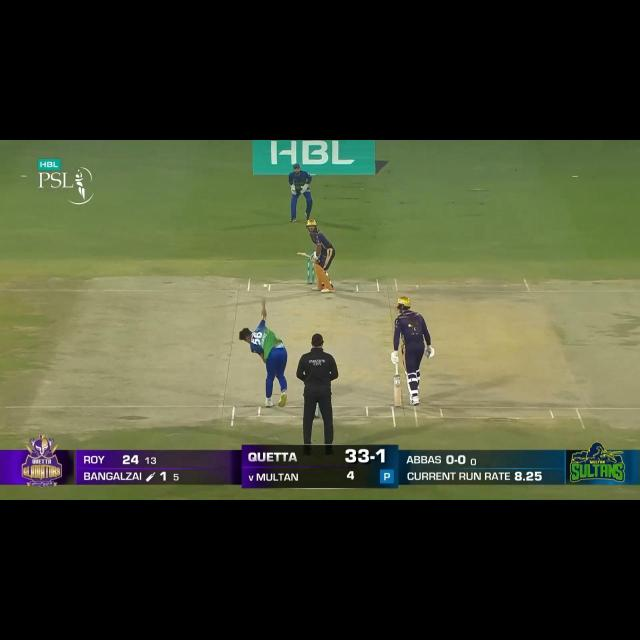bat: (393, 376, 403, 408), (296, 251, 310, 258)
toe: (394, 401, 403, 408), (296, 251, 302, 256)
